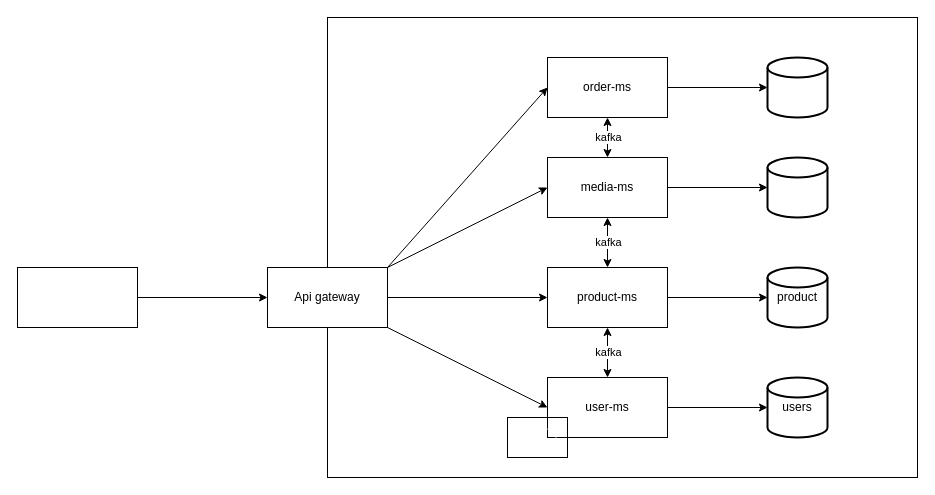
The diagram is 935 pixels wide and 495 high, and some of its shapes have lost their labels. The box of each missing label's shape, as (x1, y1, x2, y2) in pixels:
Client: (16, 266, 138, 328)
JWT: (506, 416, 568, 458)
media: (766, 156, 828, 218)
orders: (766, 56, 828, 118)
